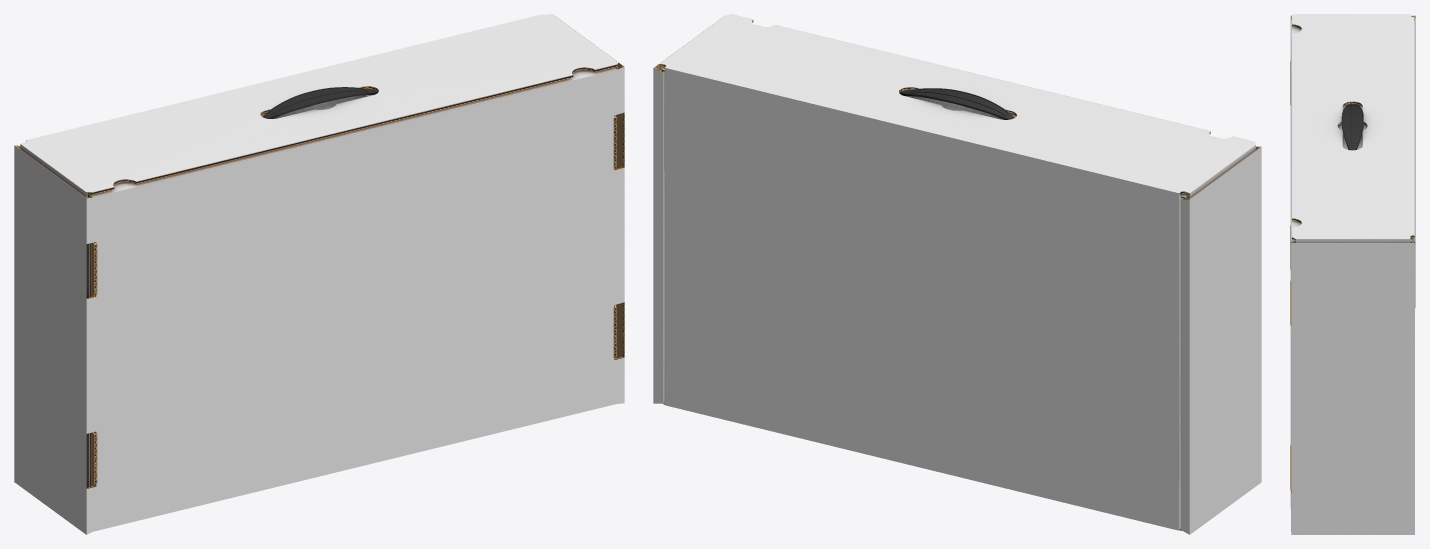
File: lonchemur5.glb
3 views of the same model, side by side, from view 1: azimuth 30°, elevation 25°; view 2: azimuth 150°, elevation 25°; view 3: azimuth 270°, elevation 25° (orthographic). The views are drawn at different scales.
Visible parts, largest first — view 1: Curve.001, Sphere.001; view 2: Curve.001, Sphere.001; view 3: Curve.001, Sphere.001.
Boxes of the visible parts, x1,y1,x2,y2 form: Curve.001: (14,14,624,534); Sphere.001: (262,87,378,118); Curve.001: (653,14,1261,534); Sphere.001: (899,88,1014,119); Curve.001: (1290,14,1415,534); Sphere.001: (1341,104,1363,150).
Size of the model in its own units: 0.4325 by 0.2669 by 0.1006.
Materials: 4 (3 with a texture image).
